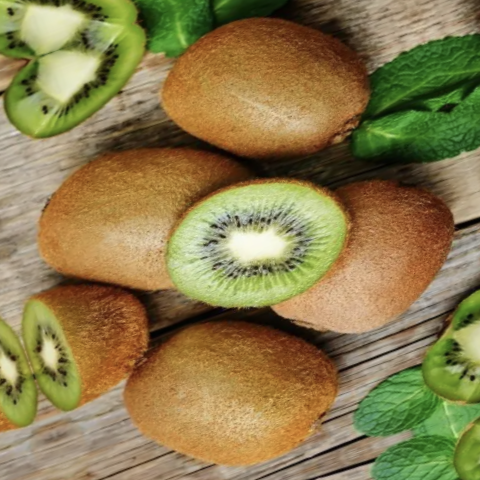kiwi: (0, 104, 293, 345), (209, 146, 480, 383), (101, 263, 369, 480), (128, 0, 405, 200)
